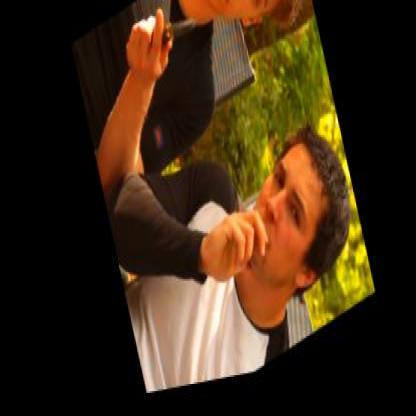knife: (119, 0, 209, 98)
